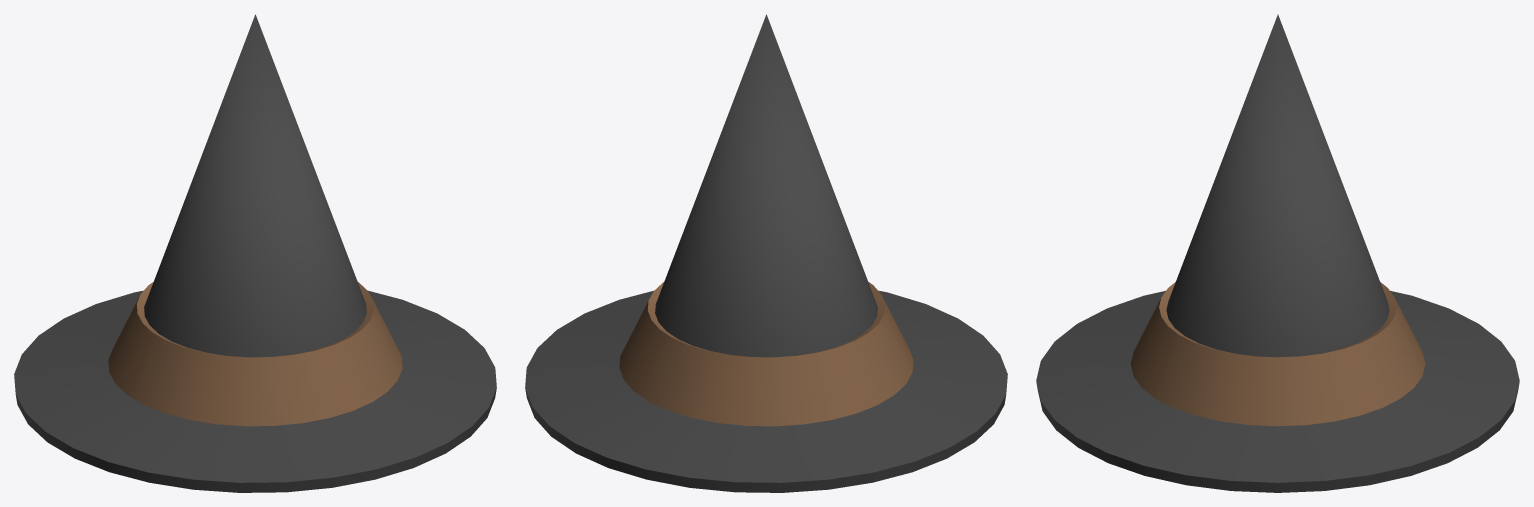
File: Hat.glb
3 renders of one model, left to right at view 1: azimuth 30°, elevation 25°; view 2: azimuth 150°, elevation 25°; view 3: azimuth 270°, elevation 25°, orthographic.
Visible parts, largest first — view 1: Hat; view 2: Hat; view 3: Hat.
Boxes of the visible parts, <box> form: Hat: <box>14,14,496,492</box>; Hat: <box>525,14,1007,492</box>; Hat: <box>1036,14,1519,492</box>.
Size of the model in its own units: 2.51 by 2.16 by 2.51.
